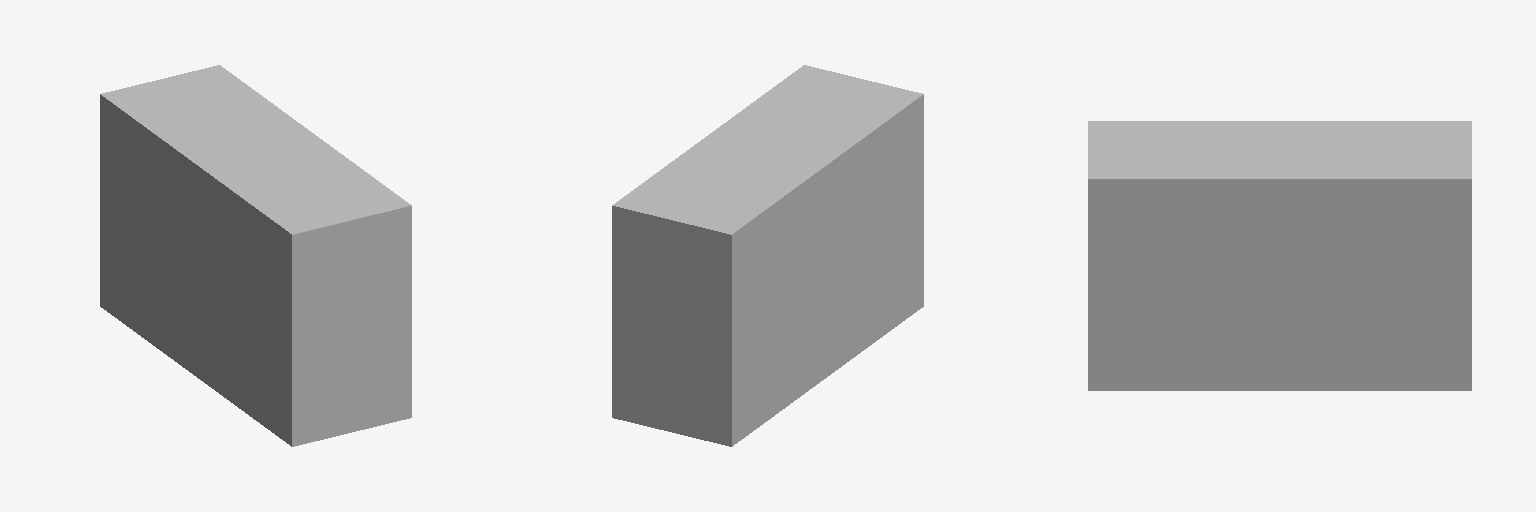
The model's file is mask.obj.
The picture shows the model from 3 angles: view 1: azimuth 30°, elevation 25°; view 2: azimuth 150°, elevation 25°; view 3: azimuth 270°, elevation 25°; orthographic projection.
Visible parts, largest first — view 1: Mask; view 2: Mask; view 3: Mask.
Part boxes in pixels (x1,y1,x2,y2): Mask: (100,65,411,446); Mask: (612,65,923,446); Mask: (1088,121,1471,390).
Size of the model in its own units: 0.759 by 1.29 by 2.11.